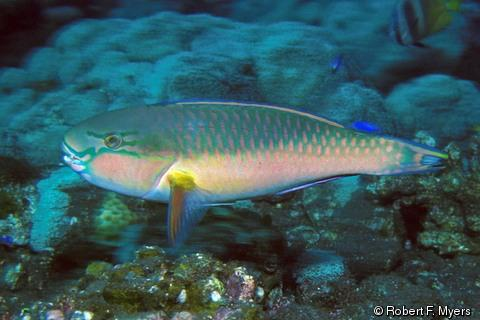Scaridae -Parrotfishes-: (56, 96, 448, 250)
